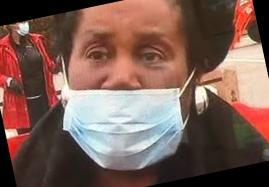mask_weared_incorrect: (59, 20, 203, 179)
